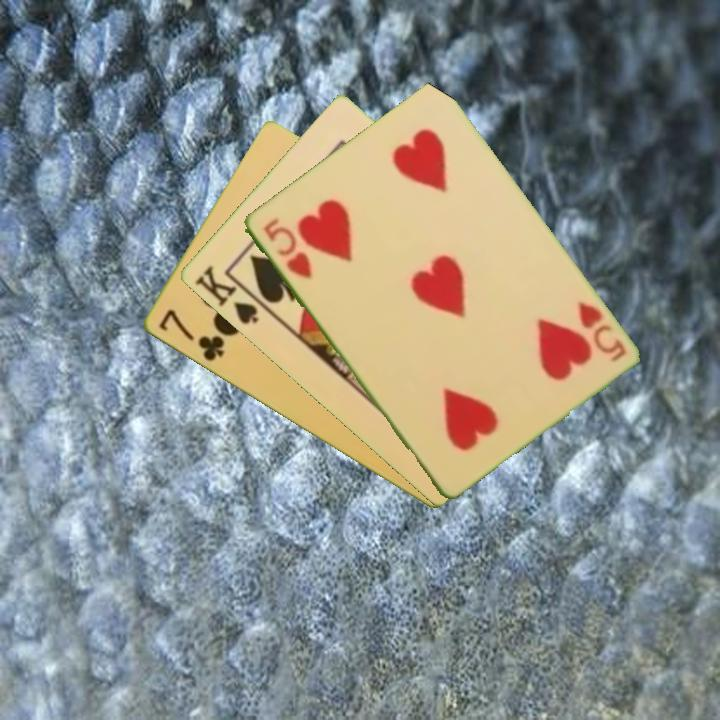5h: (259, 214, 315, 282), (574, 297, 629, 365)
7c: (154, 306, 227, 365)
Ks: (190, 261, 261, 328)
